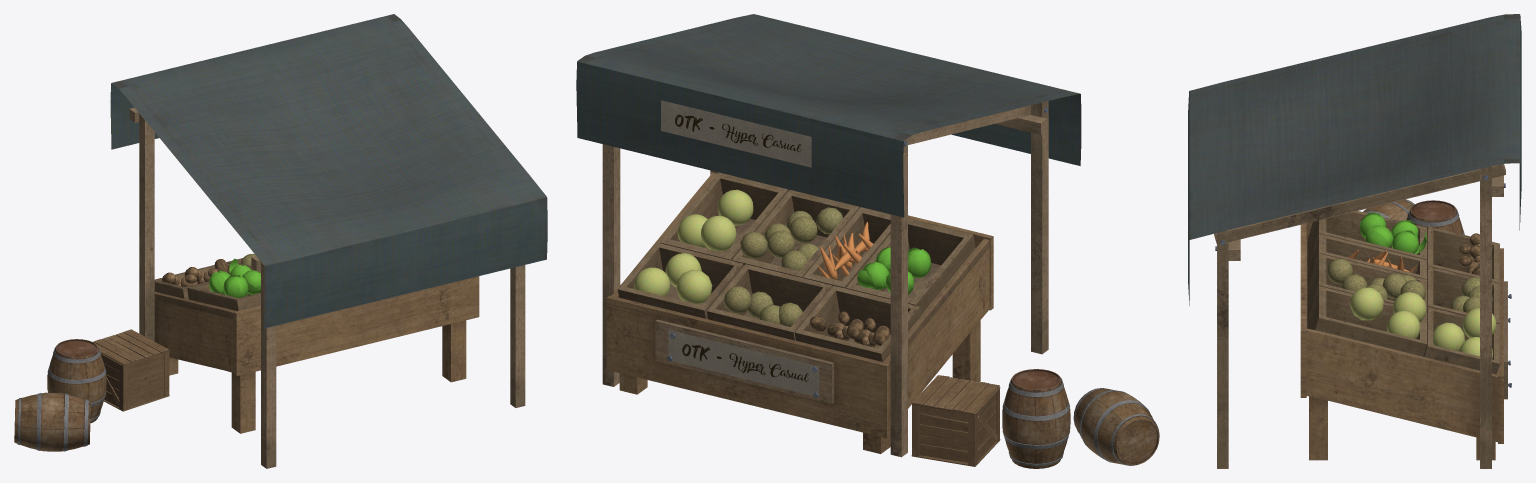
The model's file is tezgah.fbx.
3 renders of one model, left to right at view 1: azimuth 30°, elevation 25°; view 2: azimuth 150°, elevation 25°; view 3: azimuth 270°, elevation 25°, orthographic. The views are drawn at different scales.
Visible parts, largest first — view 1: polySurface1, box.001, barrelLP.001, barrelLP; view 2: polySurface1, box.001, barrelLP, barrelLP.001; view 3: polySurface1, barrelLP, barrelLP.001.
Part boxes in pixels (<box>): polySurface1: <box>110,14,547,468</box>; box.001: <box>93,329,169,411</box>; barrelLP.001: <box>14,392,90,451</box>; barrelLP: <box>47,339,106,423</box>; polySurface1: <box>576,14,1081,457</box>; box.001: <box>911,375,1000,466</box>; barrelLP: <box>1002,369,1070,468</box>; barrelLP.001: <box>1073,388,1159,465</box>; polySurface1: <box>1188,14,1521,468</box>; barrelLP: <box>1406,200,1464,234</box>; barrelLP.001: <box>1363,199,1414,221</box>.
Bounding box in the file's own units: 212 × 133 × 128.
